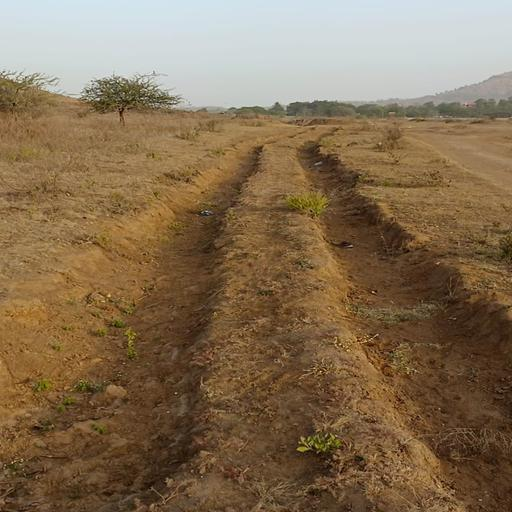vehicle_track: (0, 138, 266, 512), (304, 136, 512, 512)
